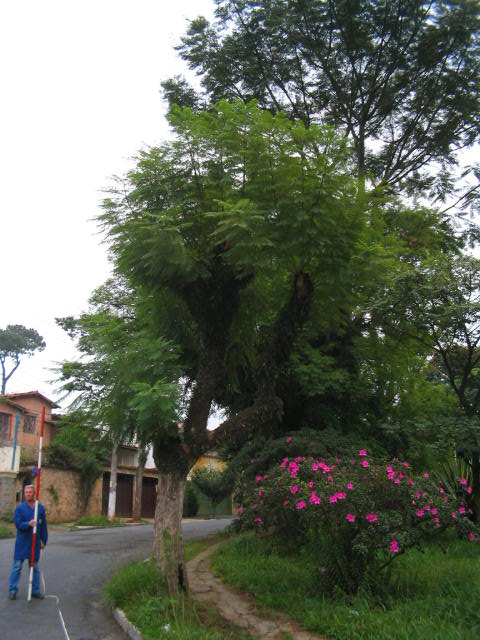crown: (49, 108, 450, 455)
stem: (133, 452, 211, 597)
stick: (17, 406, 54, 602)
tree: (46, 106, 451, 597), (2, 323, 46, 392)
